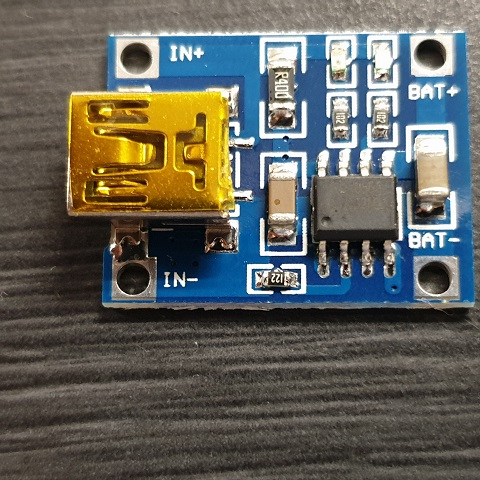batt+: (412, 34, 448, 78)
batt-: (419, 259, 463, 297)
charge: (329, 34, 358, 84)
done: (365, 34, 397, 86)
rprog: (244, 264, 308, 292)
usb: (65, 90, 240, 214)
